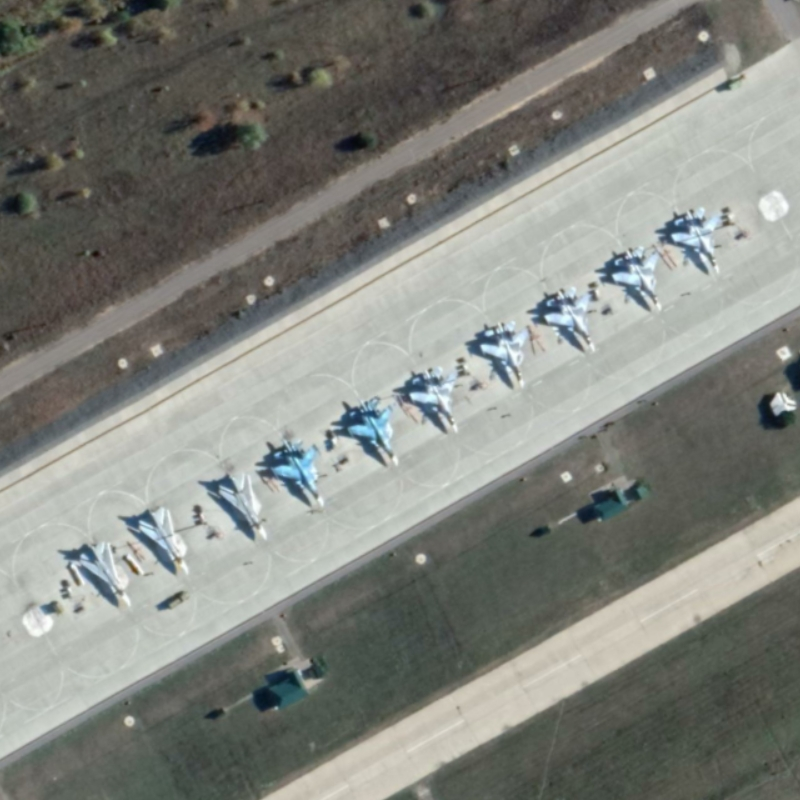A19: (269, 437, 328, 510), (345, 395, 401, 469), (668, 205, 725, 276), (541, 284, 598, 354), (478, 318, 532, 391), (407, 364, 461, 436), (609, 244, 664, 313)
A20: (137, 505, 192, 577), (215, 470, 269, 541), (78, 540, 133, 608)
